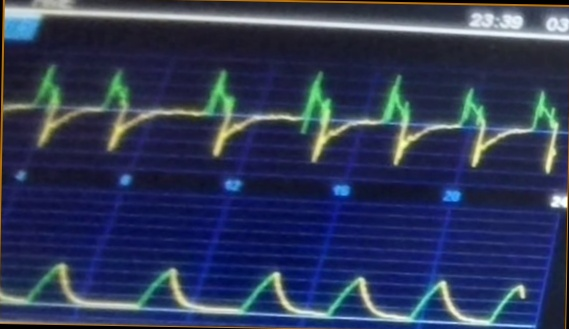Accumulation Flow: (5, 59, 560, 173)
Volume: (1, 239, 526, 325)
